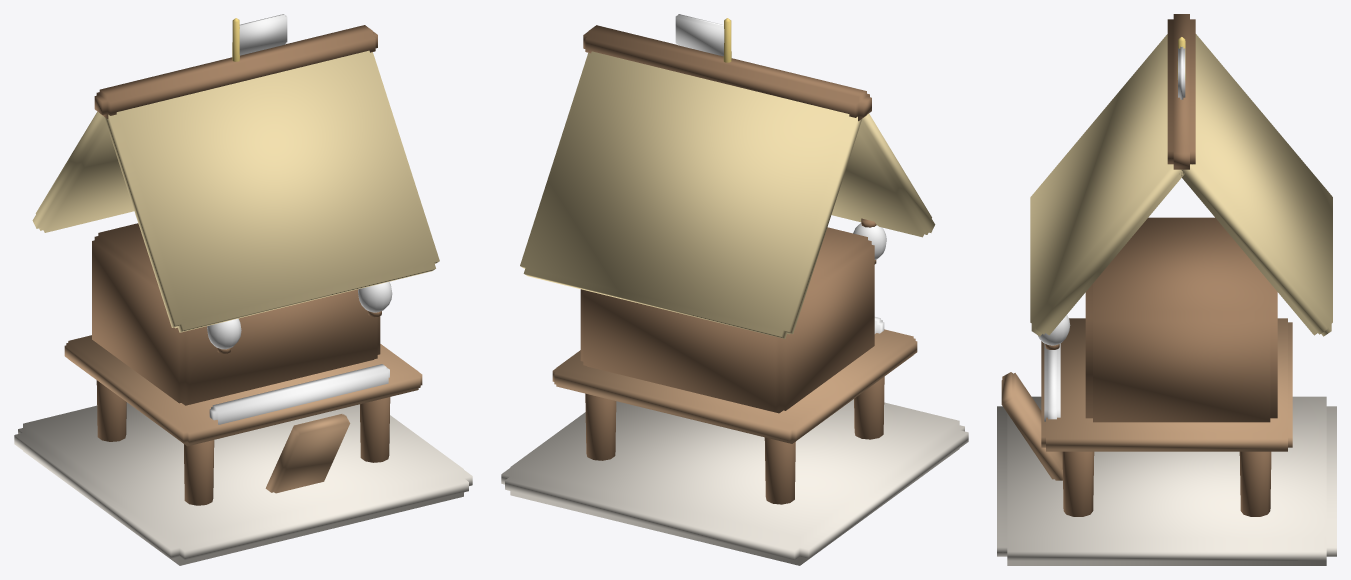
Rendered from lvl1_taynguyen.glb.
3 renders of one model, left to right at view 1: azimuth 30°, elevation 25°; view 2: azimuth 150°, elevation 25°; view 3: azimuth 270°, elevation 25°, orthographic.
Parts seen in each view (by area): view 1: lvl1_taynguyen; view 2: lvl1_taynguyen; view 3: lvl1_taynguyen.
Boxes of the visible parts, x1,y1,x2,y2 form: lvl1_taynguyen: (14, 14, 472, 565); lvl1_taynguyen: (501, 14, 968, 565); lvl1_taynguyen: (997, 14, 1336, 565).
Bounding box in the file's own units: 0.48 × 0.685 × 0.46.
